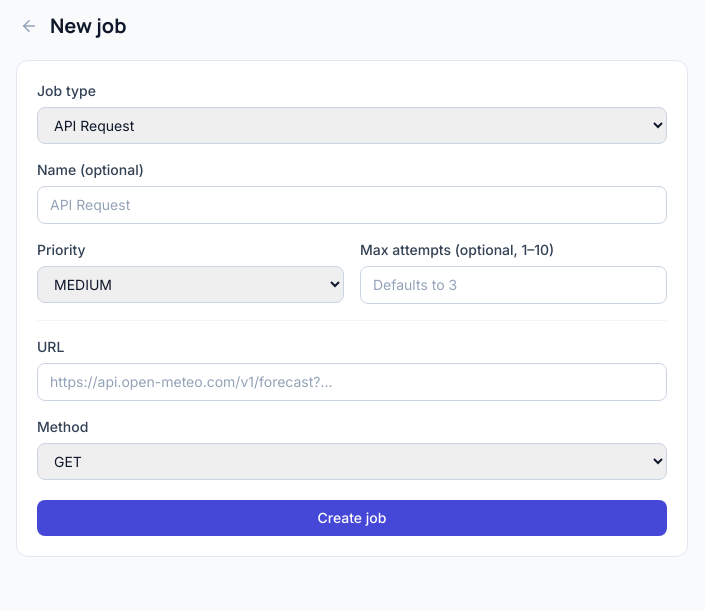
Test case: JobCreatePage › shows an error and does not navigate when job creation fails
In the field labelled "URL": (352, 382) top-left (37, 363), bottom-right (667, 401), type "https://example.com"
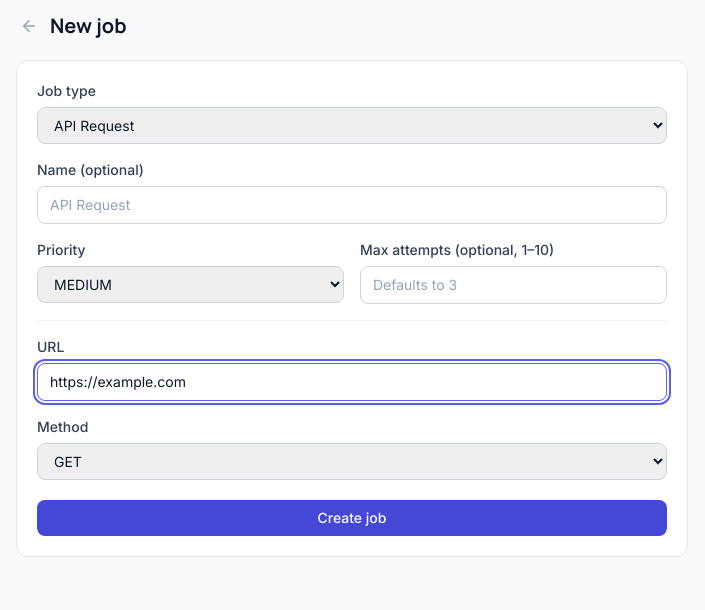
Submit the form named "Create job"
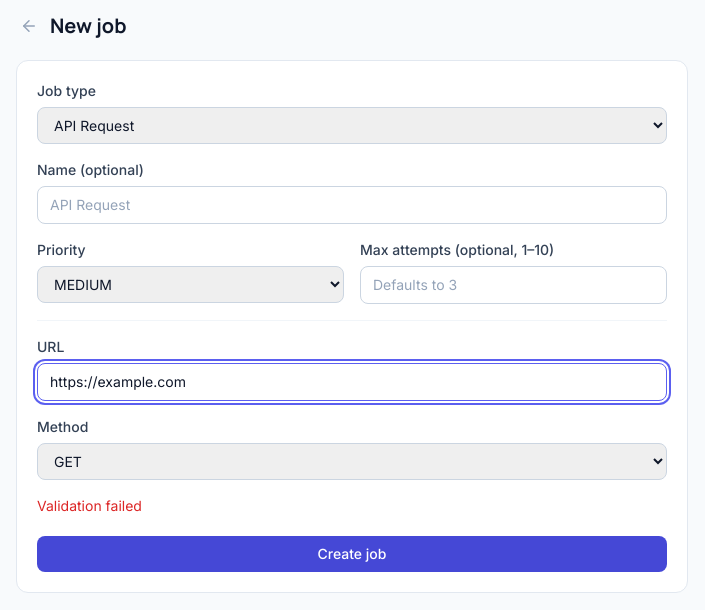
Check: the text "Validation failed" is shown, box top-left (37, 497), bottom-right (142, 514)
